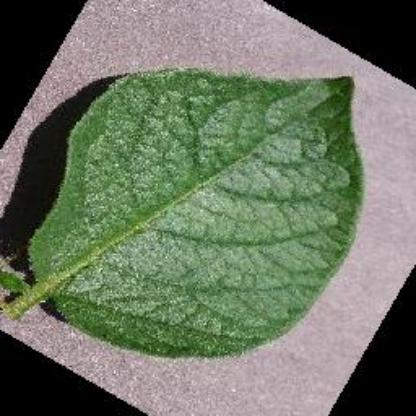Healthy-plant: (4, 53, 378, 362)
